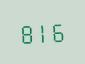eight: (18, 21, 33, 44)
one: (35, 20, 50, 43)
six: (51, 19, 66, 42)
